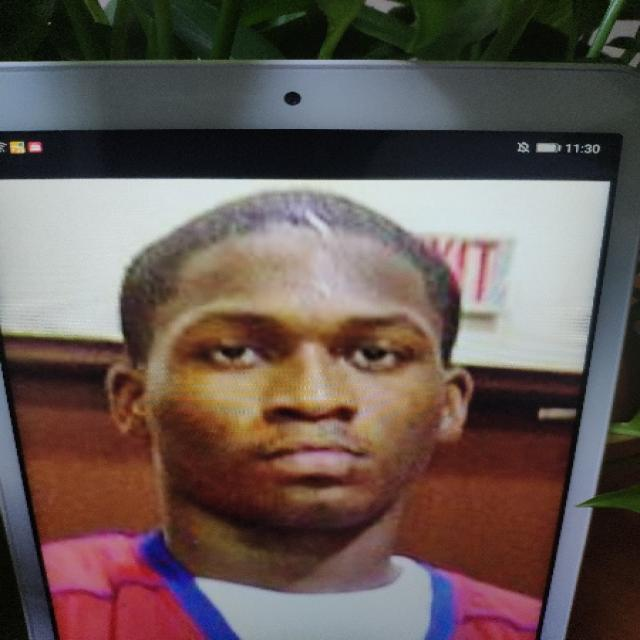device: (4, 54, 634, 640)
